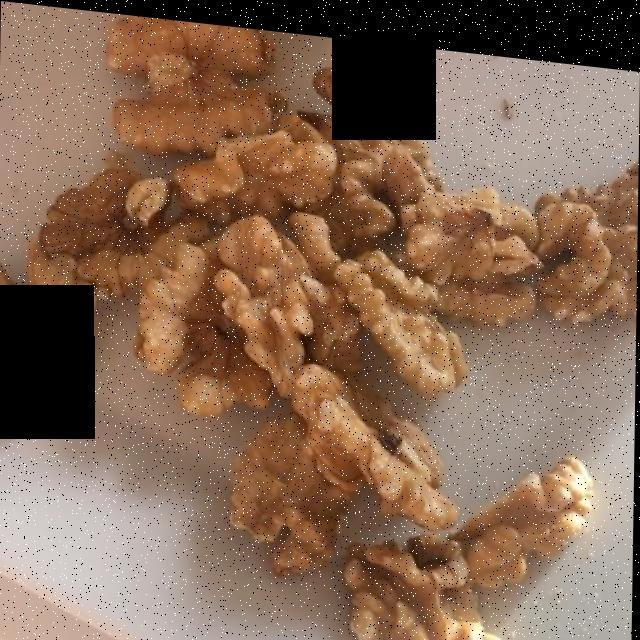walnut: (1, 29, 625, 640)
